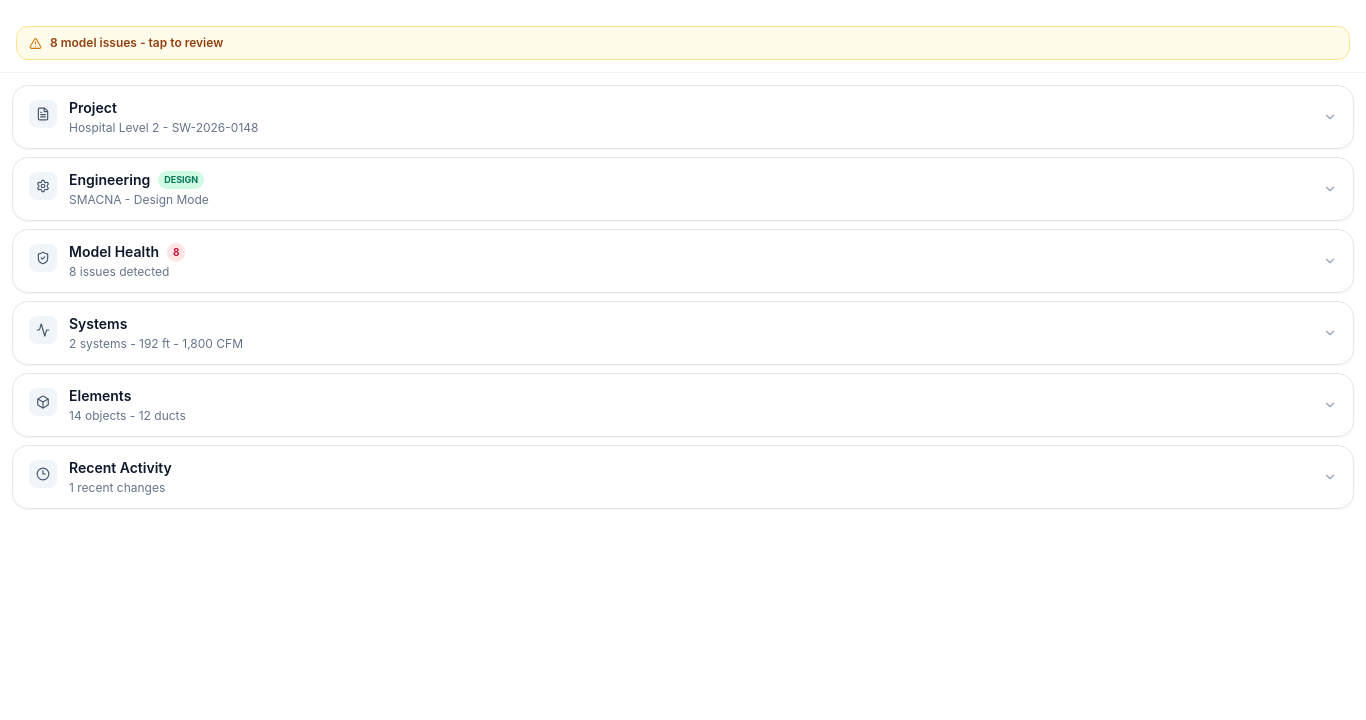
Test case: InspectorOverviewPanel › renders project fields from props after opening Project
The width and height of the screenshot is (1366, 720).
Click the button "Project Hospital Level 2 - SW-2026-0148": {"x": 93, "y": 108} [13,86,1353,148]
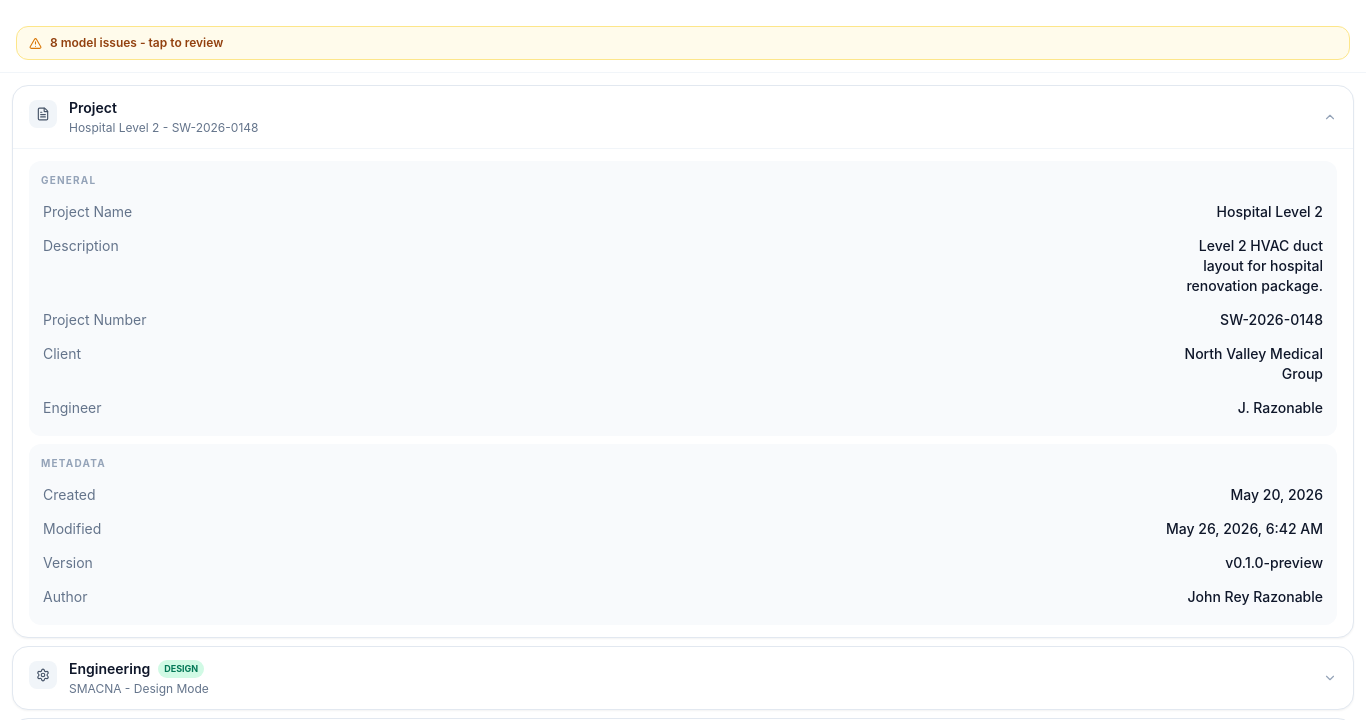
Expected: the text "Hospital Level 2" is shown, [1217,202,1323,222]
Expected: the text "SW-2026-0148" is shown, [1220,310,1323,330]
Expected: the text "North Valley Medical Group" is shown, [1185,345,1323,382]
